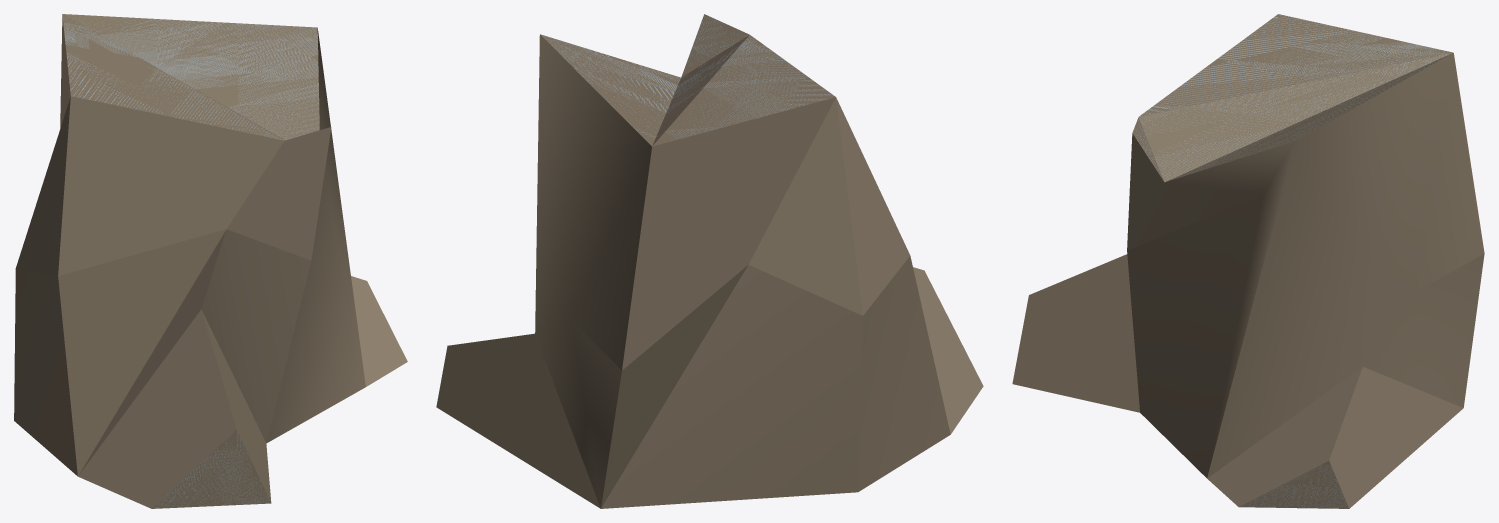
File: Tree_Stump_04.fbx
3 renders of one model, left to right at view 1: azimuth 30°, elevation 25°; view 2: azimuth 150°, elevation 25°; view 3: azimuth 270°, elevation 25°, orthographic. The views are drawn at different scales.
Parts seen in each view (by area): view 1: Model; view 2: Model; view 3: Model.
Part boxes in pixels (x1,y1,x2,y2): Model: (14,14,407,508); Model: (436,14,983,508); Model: (1012,14,1484,508).
Bounding box in the file's own units: 291 × 248 × 316.
